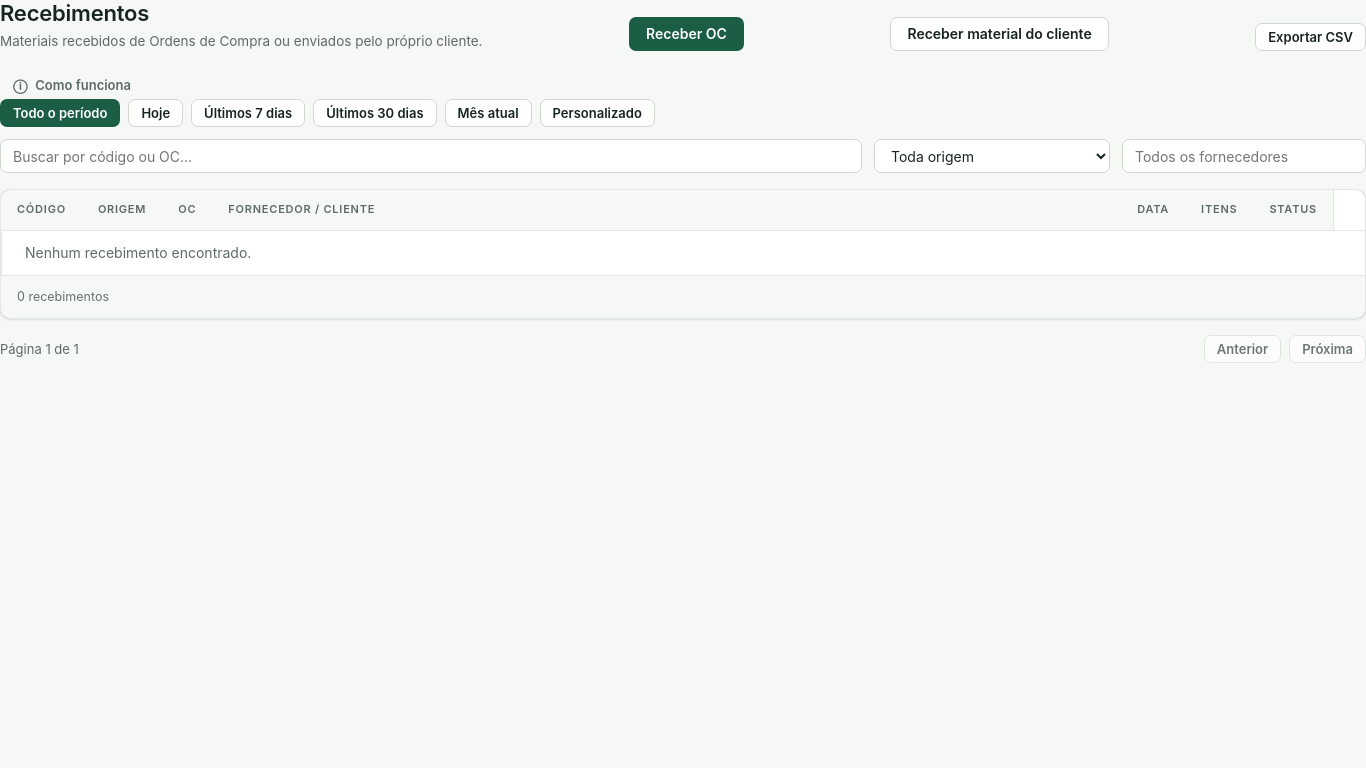
it: Recebimentos › separa o caminho da OC do caminho do material do cliente
Click the button "ⓘ Como funciona".
click(72, 85)  # box [0,71,144,99]
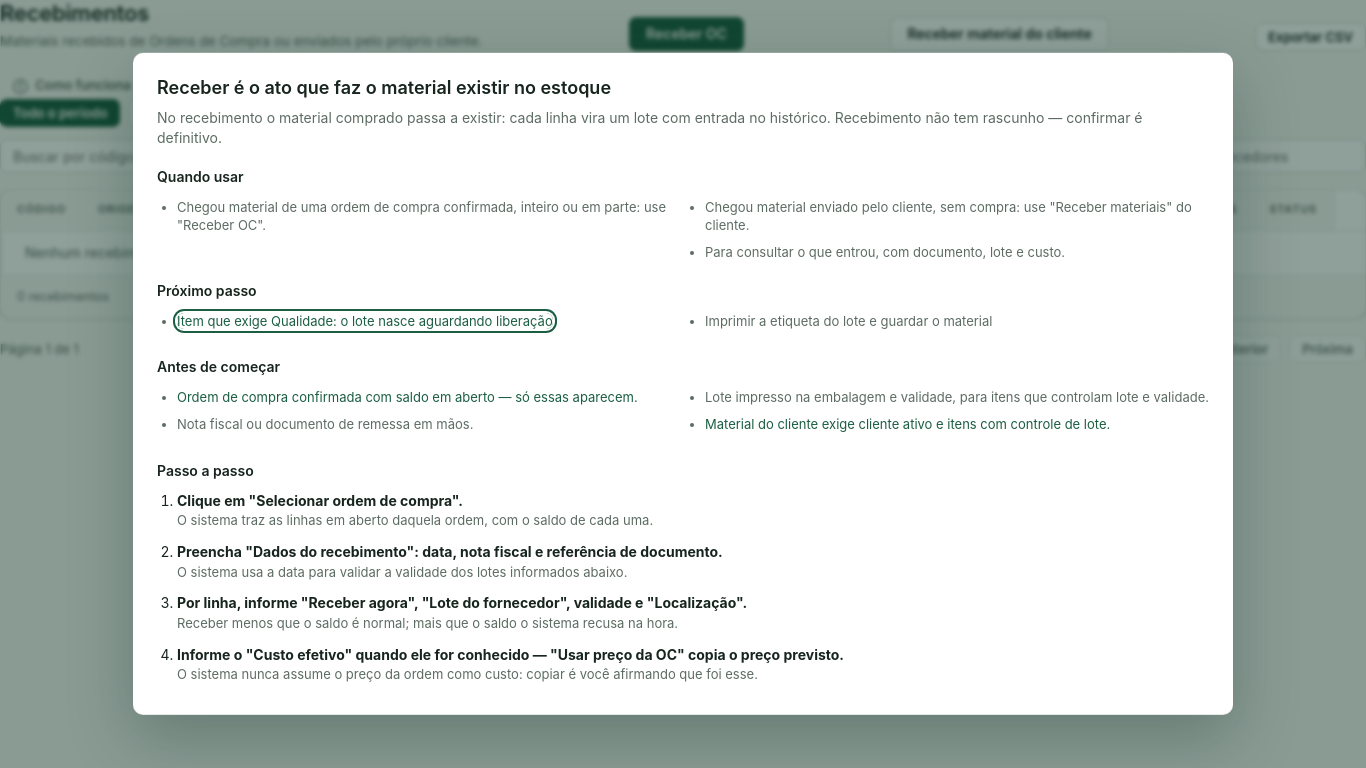
expect the button "Receber OC" is shown: met, box [629,17,744,51]
expect the list item "Receber materiais" is shown: met, box [705,198,1192,233]
